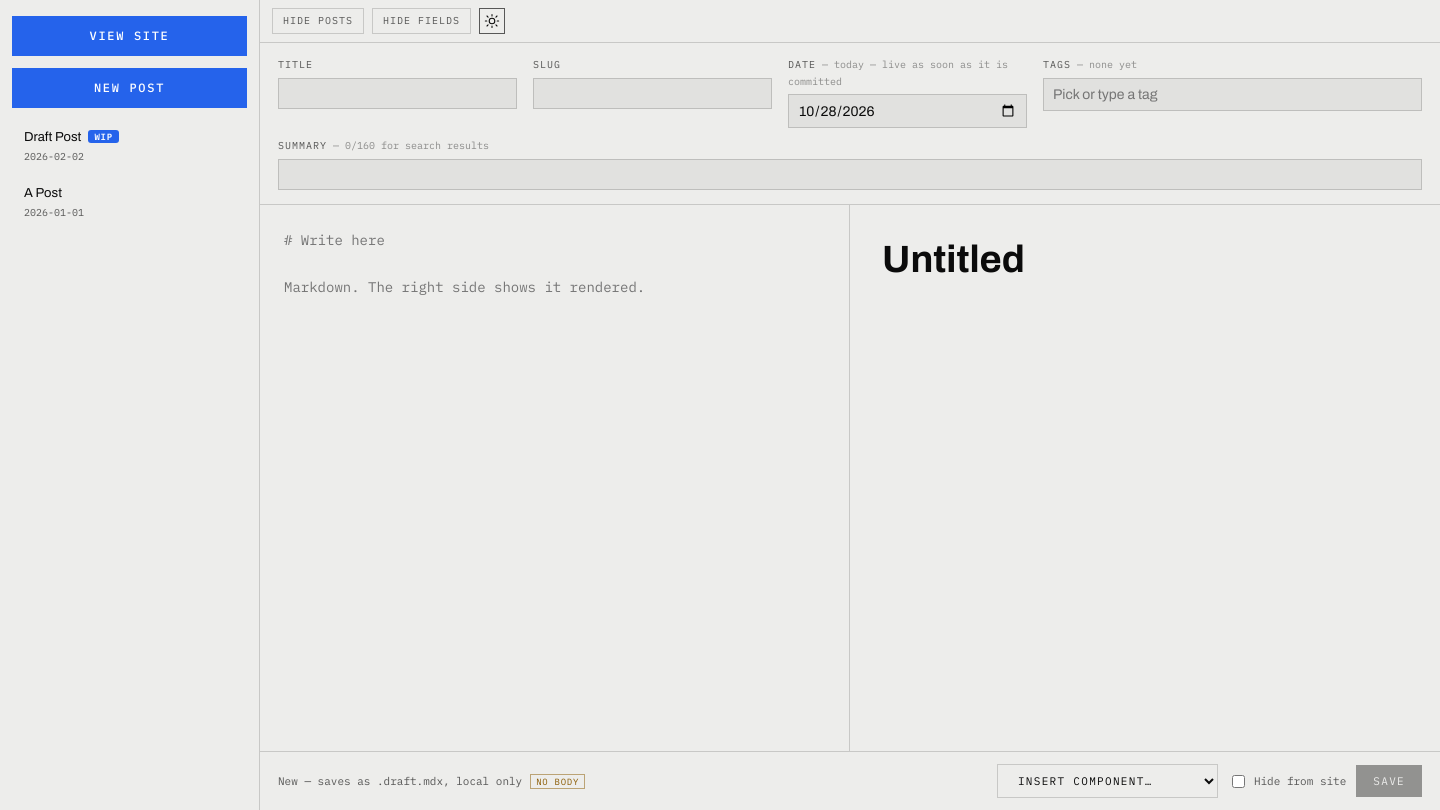
it: the tag picker › offers to create a tag that does not exist yet, kebab-cased
In the dropdown labelled "Tags — none yet": x=1232, y=94 [1050, 82, 1415, 106], type "Mental Health"
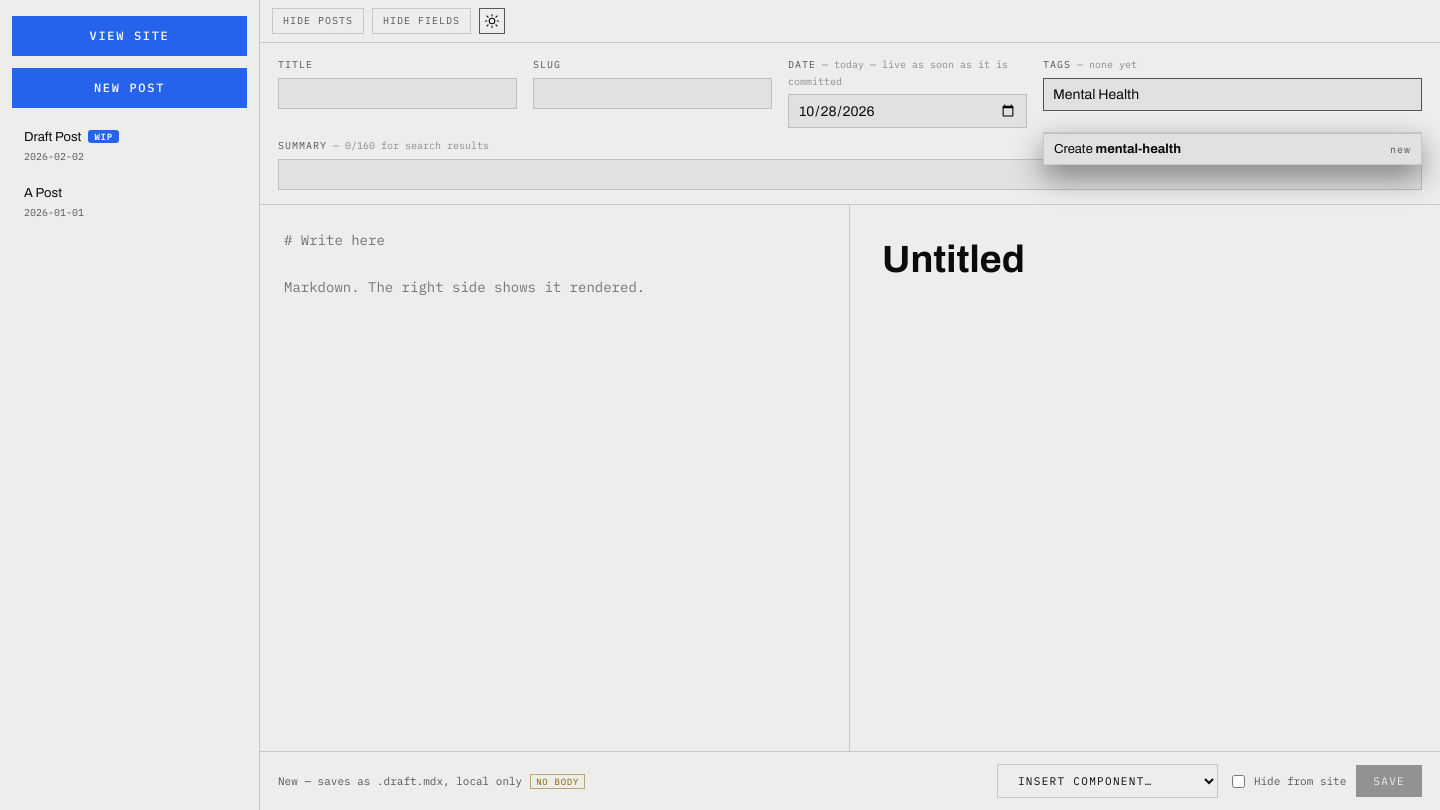
Expected: the option "Create mental-health new" is shown
Click the option "Create mental-health new": x=1075, y=149 [1044, 133, 1421, 164]
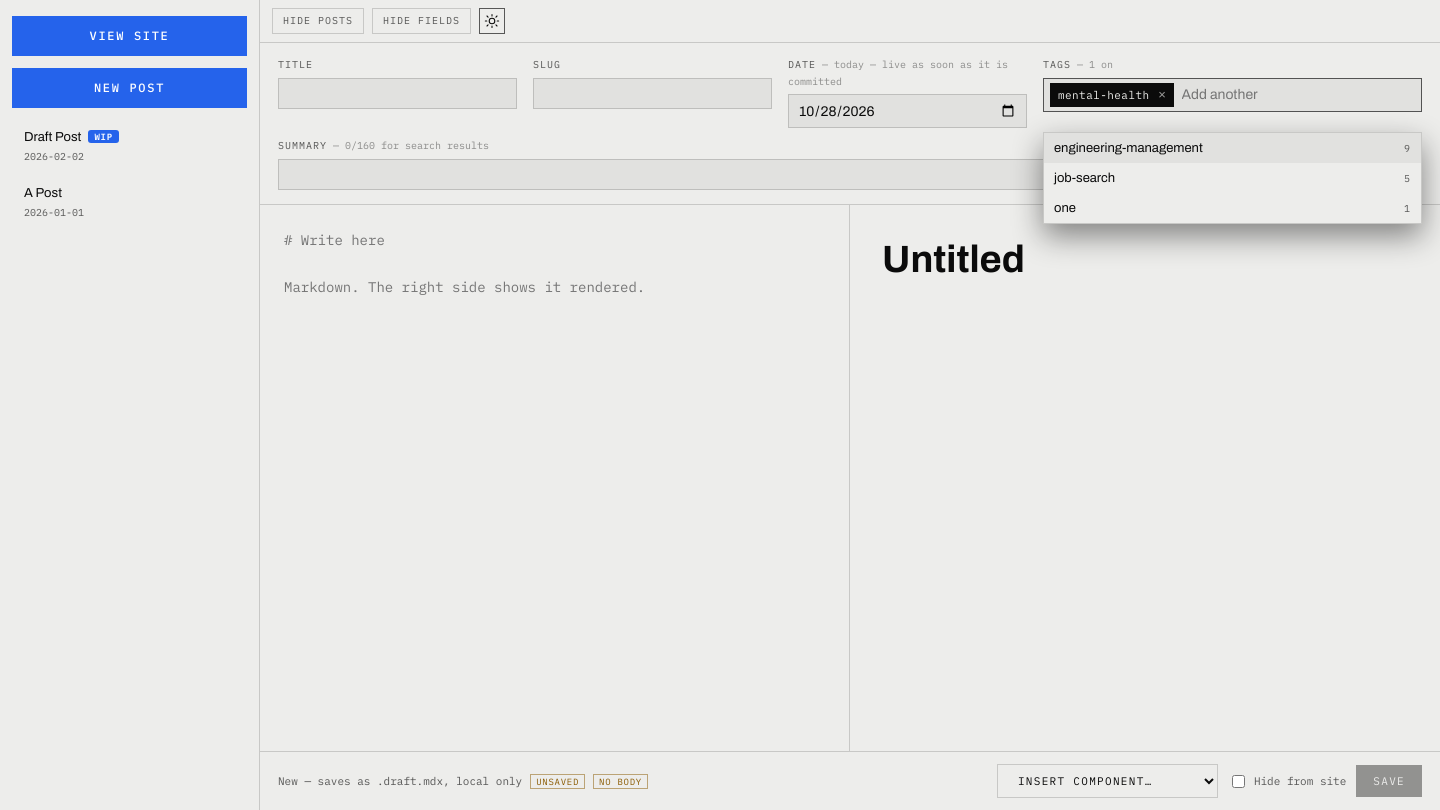
Expected: the button named "Remove mental-health" is shown, [1154, 87, 1170, 102]
